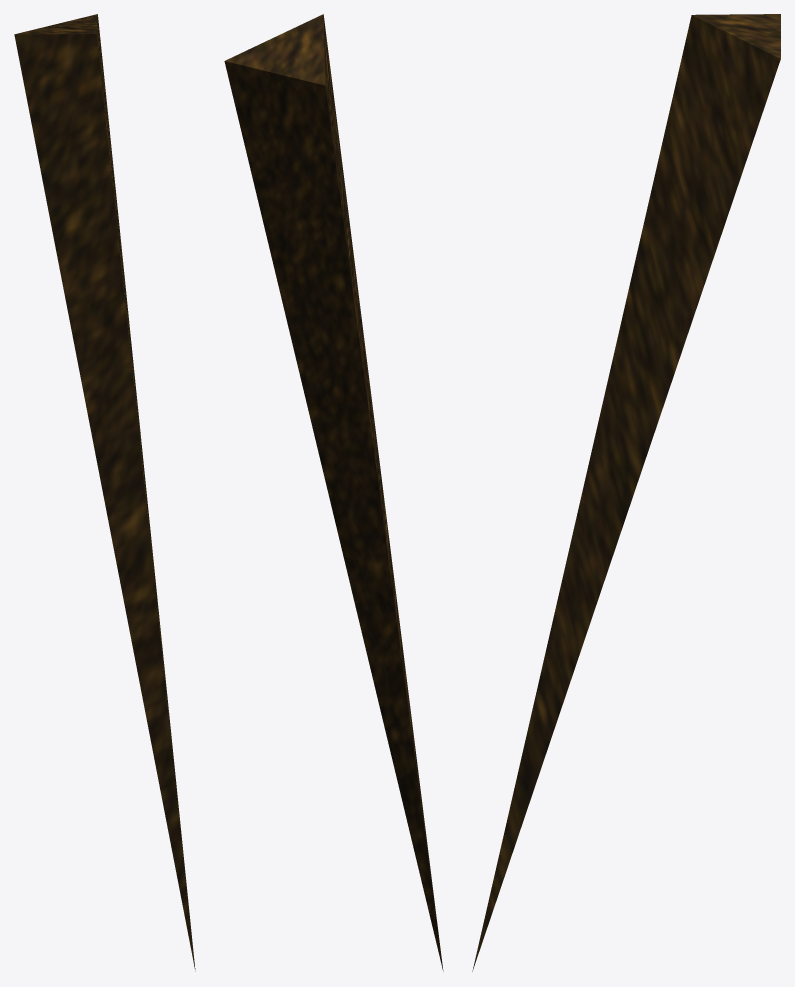
The model's file is staff.glb.
The picture shows the model from 3 angles, left to right: view 1: azimuth 30°, elevation 25°; view 2: azimuth 150°, elevation 25°; view 3: azimuth 270°, elevation 25°; orthographic projection. The views are drawn at different scales.
Visible parts, largest first — view 1: Staff; view 2: Staff; view 3: Staff.
Part boxes in pixels (left/top/right/bottom): Staff: left=14, top=14, right=195, bottom=971; Staff: left=224, top=14, right=443, bottom=970; Staff: left=472, top=14, right=780, bottom=971.
Bounding box in the file's own units: 0.3464 × 3.43 × 1.
Materials: 1 (1 with a texture image).
